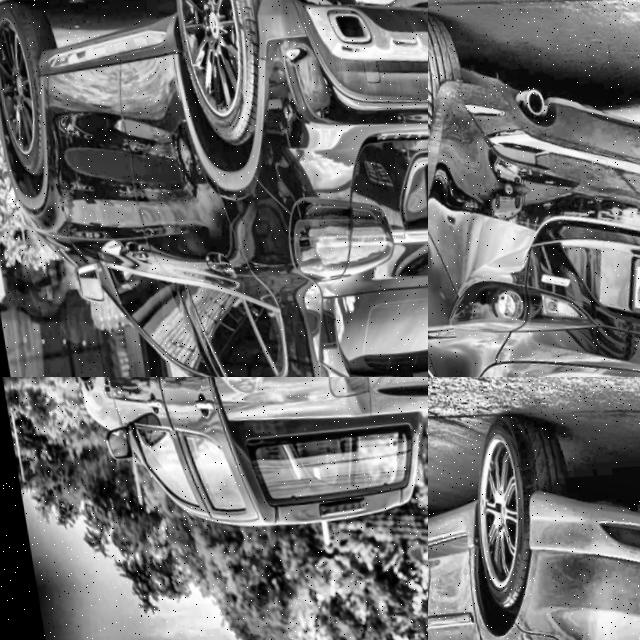license-plate: (613, 237, 640, 334)
